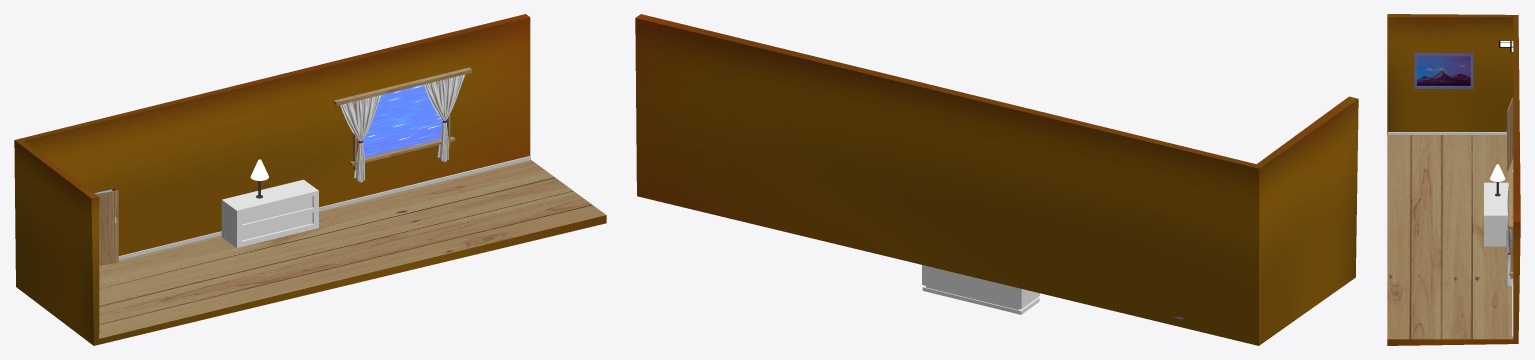
Rendered from nightsky_diorama_room_pbr.glb.
3 renders of one model, left to right at view 1: azimuth 30°, elevation 25°; view 2: azimuth 150°, elevation 25°; view 3: azimuth 270°, elevation 25°, orthographic. The views are drawn at different scales.
Visible parts, largest first — view 1: model structure_1, shelf_25, Cube.006_18, door_2, Curtain_FBX2_Material3637_0.002_8, Curtain_FBX2_Material3637_0_4, Cube_12, Cube.001_13; view 2: model structure_1, shelf_25; view 3: model structure_1, Cube.009_19, shelf_25, door_2, Cube.004_16, Cube_12, Curtain_FBX2_Material3637_0.002_8, lamp_26, Cube.002_14.
Part boxes in pixels (x1,y1,x2,y2): model structure_1: (14, 14, 606, 345); shelf_25: (221, 179, 318, 247); Cube.006_18: (118, 156, 530, 259); door_2: (95, 190, 118, 265); Curtain_FBX2_Material3637_0.002_8: (424, 74, 465, 161); Curtain_FBX2_Material3637_0_4: (340, 95, 381, 182); Cube_12: (333, 67, 471, 105); Cube.001_13: (350, 136, 455, 165); model structure_1: (635, 14, 1358, 345); shelf_25: (922, 265, 1039, 314); model structure_1: (1387, 14, 1520, 345); Cube.009_19: (1414, 53, 1473, 88); shelf_25: (1484, 182, 1508, 246); door_2: (1507, 98, 1513, 170); Cube.004_16: (1388, 132, 1506, 134); Cube_12: (1508, 171, 1513, 228); Curtain_FBX2_Material3637_0.002_8: (1506, 220, 1513, 286); lamp_26: (1490, 164, 1505, 196); Cube.002_14: (1510, 217, 1513, 278).
Size of the model in its own units: 2.89 by 0.9315 by 0.784.
14 materials, 5 textured.
